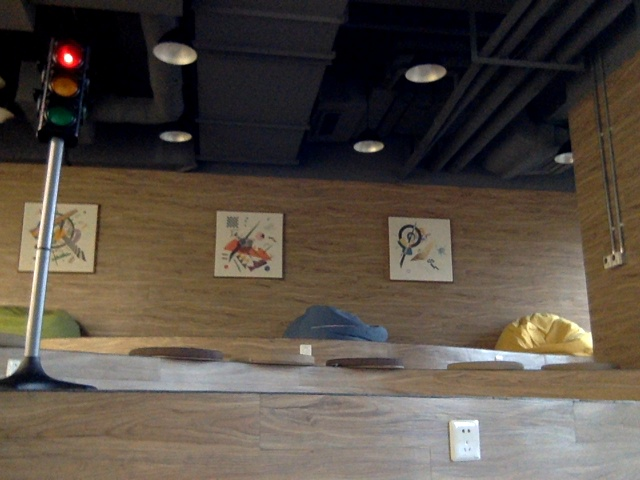red: (50, 42, 81, 135)
